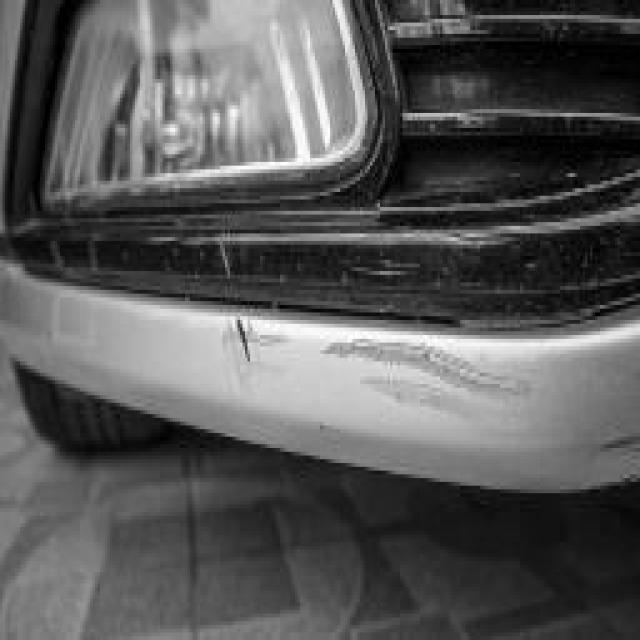Bumper: (50, 207, 640, 550)
